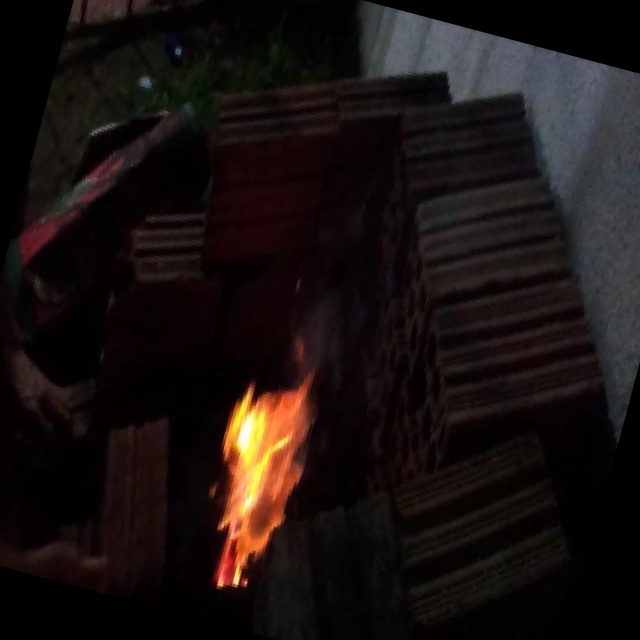fire: (157, 314, 358, 601)
